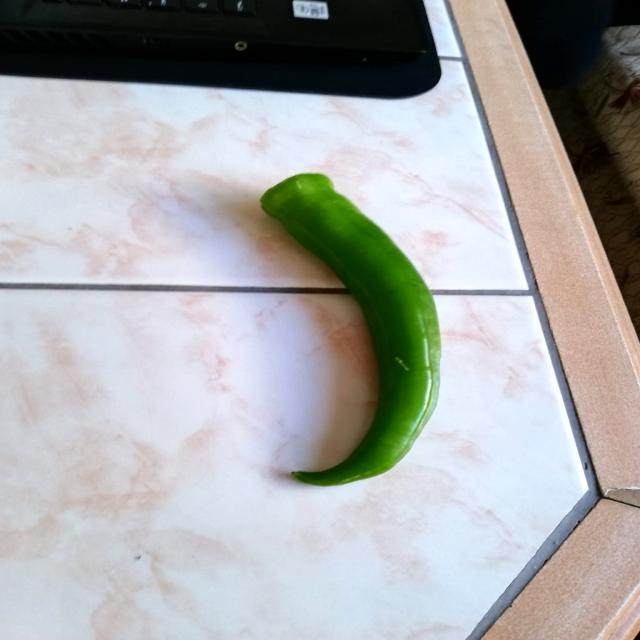green pepper: (242, 164, 450, 492)
